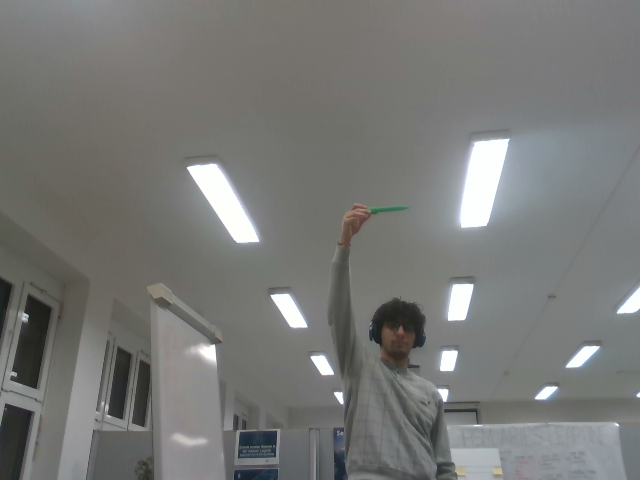Probe: (358, 204, 412, 219)
